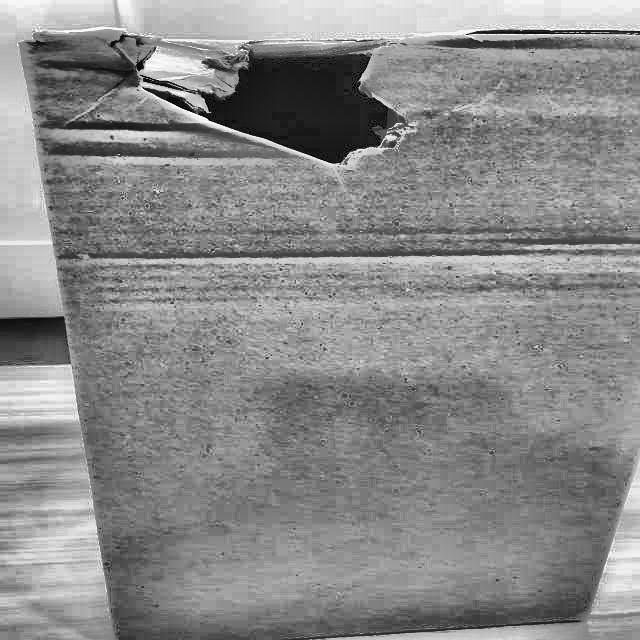box: (1, 20, 639, 639)
hole: (101, 29, 485, 169)
